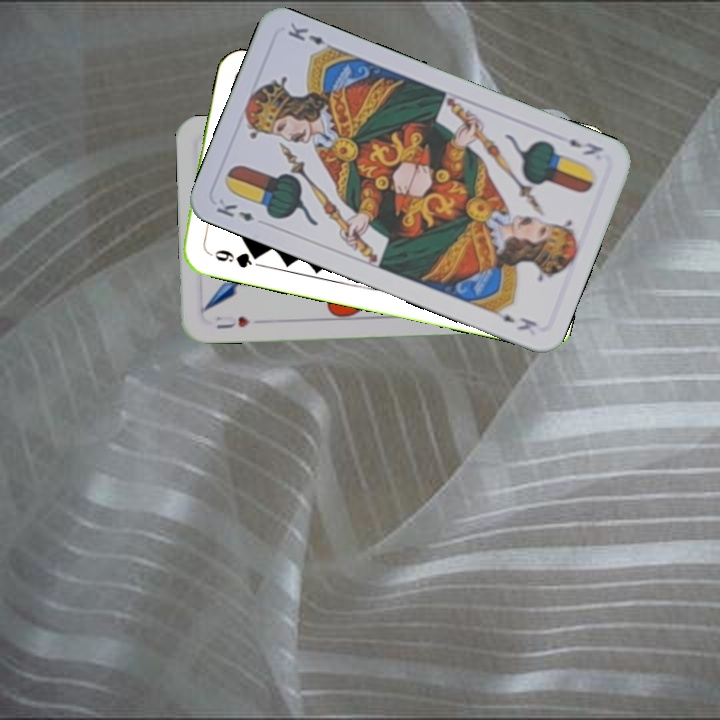EK: (212, 194, 257, 224), (565, 134, 606, 158)
G9: (203, 245, 263, 271)
HU: (211, 312, 253, 331)
